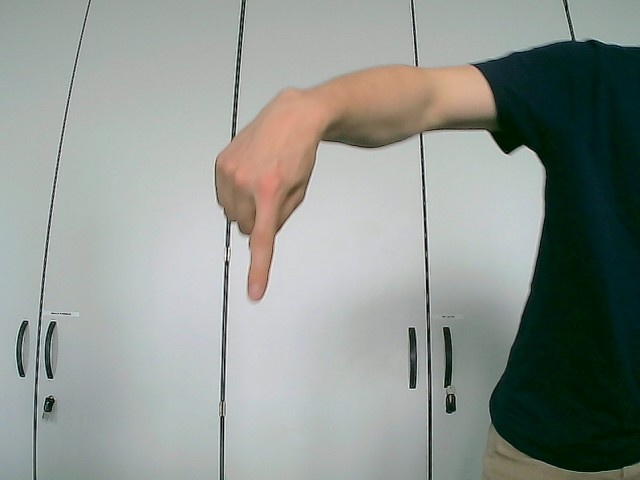down: (212, 87, 323, 302)
